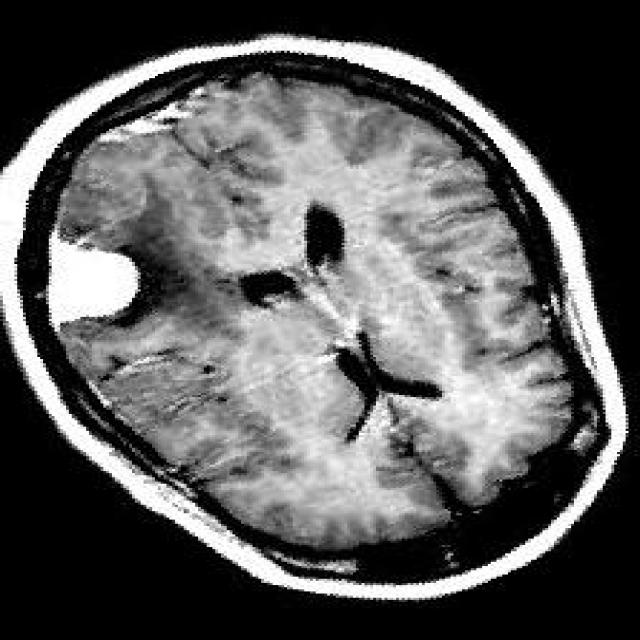Tumor-Cell: (48, 202, 147, 338)
